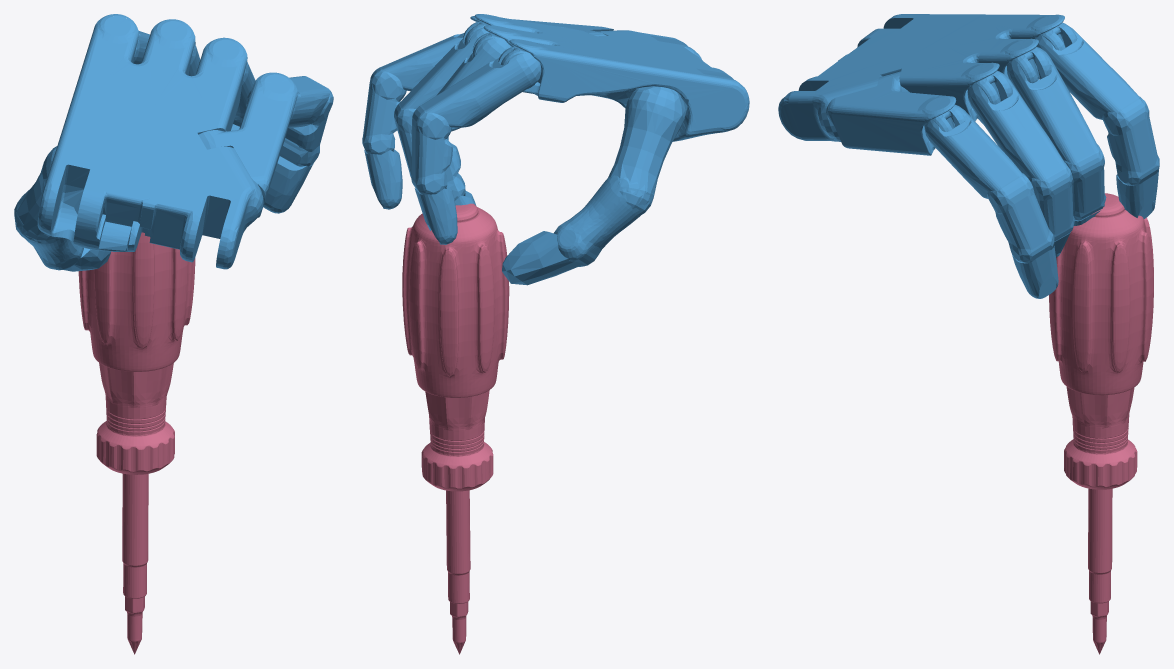
3 renders of one model, left to right at view 1: azimuth 30°, elevation 25°; view 2: azimuth 150°, elevation 25°; view 3: azimuth 270°, elevation 25°, orthographic. The views are drawn at different scales.
Parts seen in each view (by area): view 1: 3; view 2: 3; view 3: 3.
Part boxes in pixels (x1,y1,x2,y2): 3: (14, 14, 333, 654); 3: (362, 14, 749, 654); 3: (778, 14, 1159, 654).
Size of the model in its own units: 0.1606 by 0.2895 by 0.1622.
